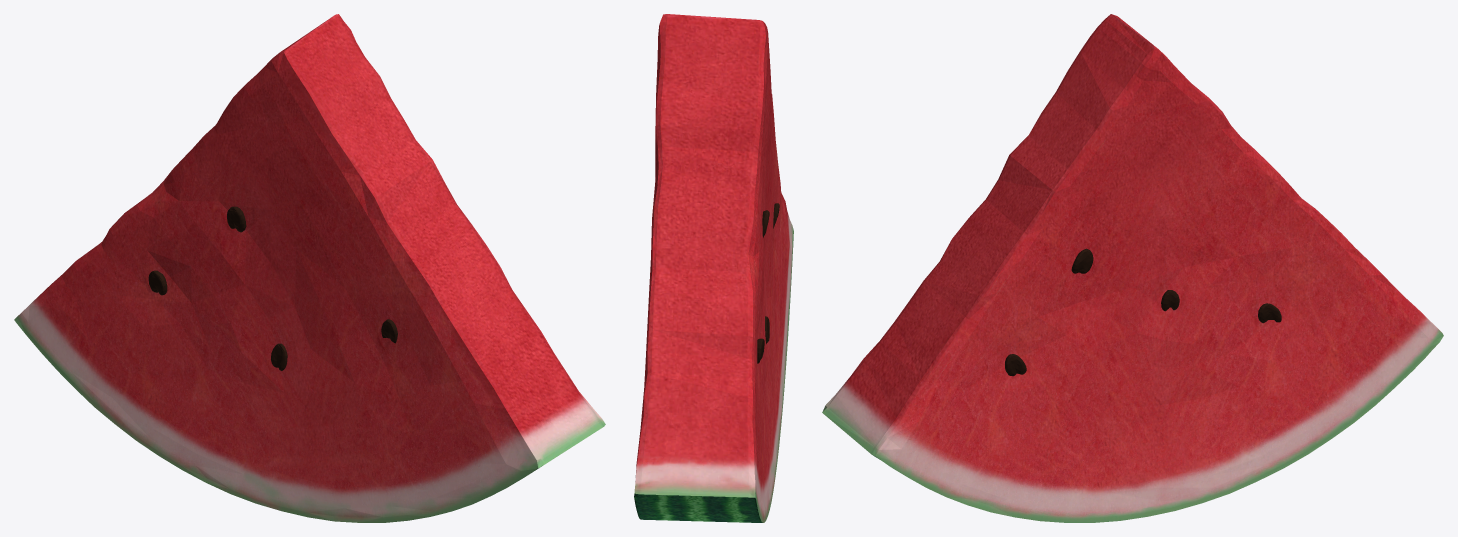
Rendered from Watermelon.fbx.
3 views of the same model, side by side, from view 1: azimuth 30°, elevation 25°; view 2: azimuth 150°, elevation 25°; view 3: azimuth 270°, elevation 25° (orthographic).
Visible parts, largest first — view 1: node_id171; view 2: node_id171; view 3: node_id171.
Part boxes in pixels (x1,y1,x2,y2): node_id171: (14,14,605,522); node_id171: (634,14,793,522); node_id171: (822,14,1443,522).
Size of the model in its own units: 0.3939 by 0.512 by 0.623.
Materials: 1 (1 with a texture image).
